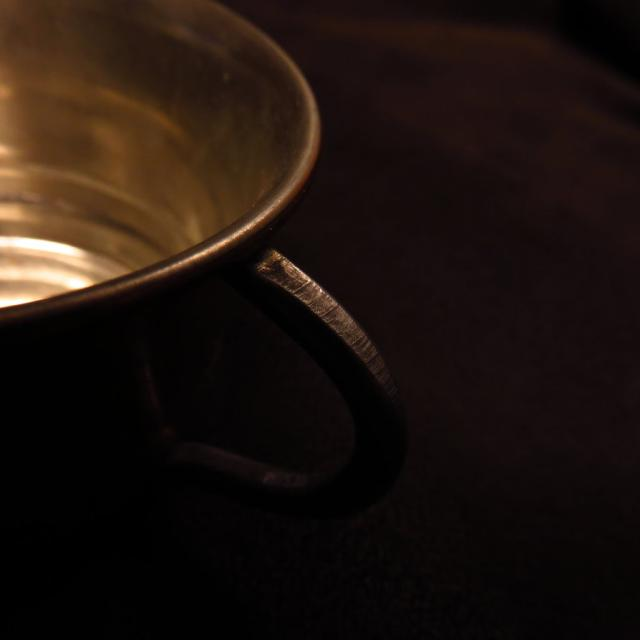Cup: (0, 11, 403, 633)
